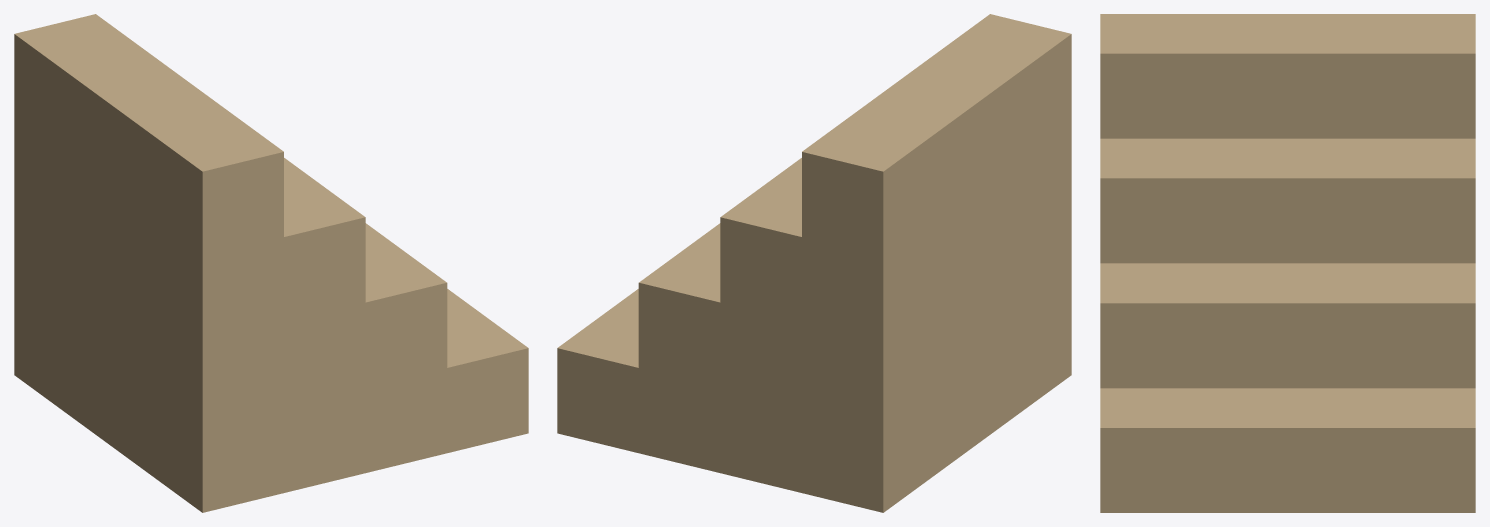
The model's file is stairs.fbx.
3 renders of one model, left to right at view 1: azimuth 30°, elevation 25°; view 2: azimuth 150°, elevation 25°; view 3: azimuth 270°, elevation 25°, orthographic.
Visible parts, largest first — view 1: Würfel; view 2: Würfel; view 3: Würfel.
Boxes of the visible parts, x1=… form: Würfel: x1=14, y1=14, x2=528, y2=512; Würfel: x1=557, y1=14, x2=1071, y2=512; Würfel: x1=1100, y1=14, x2=1475, y2=512.
Size of the model in its own units: 200 by 200 by 200.
